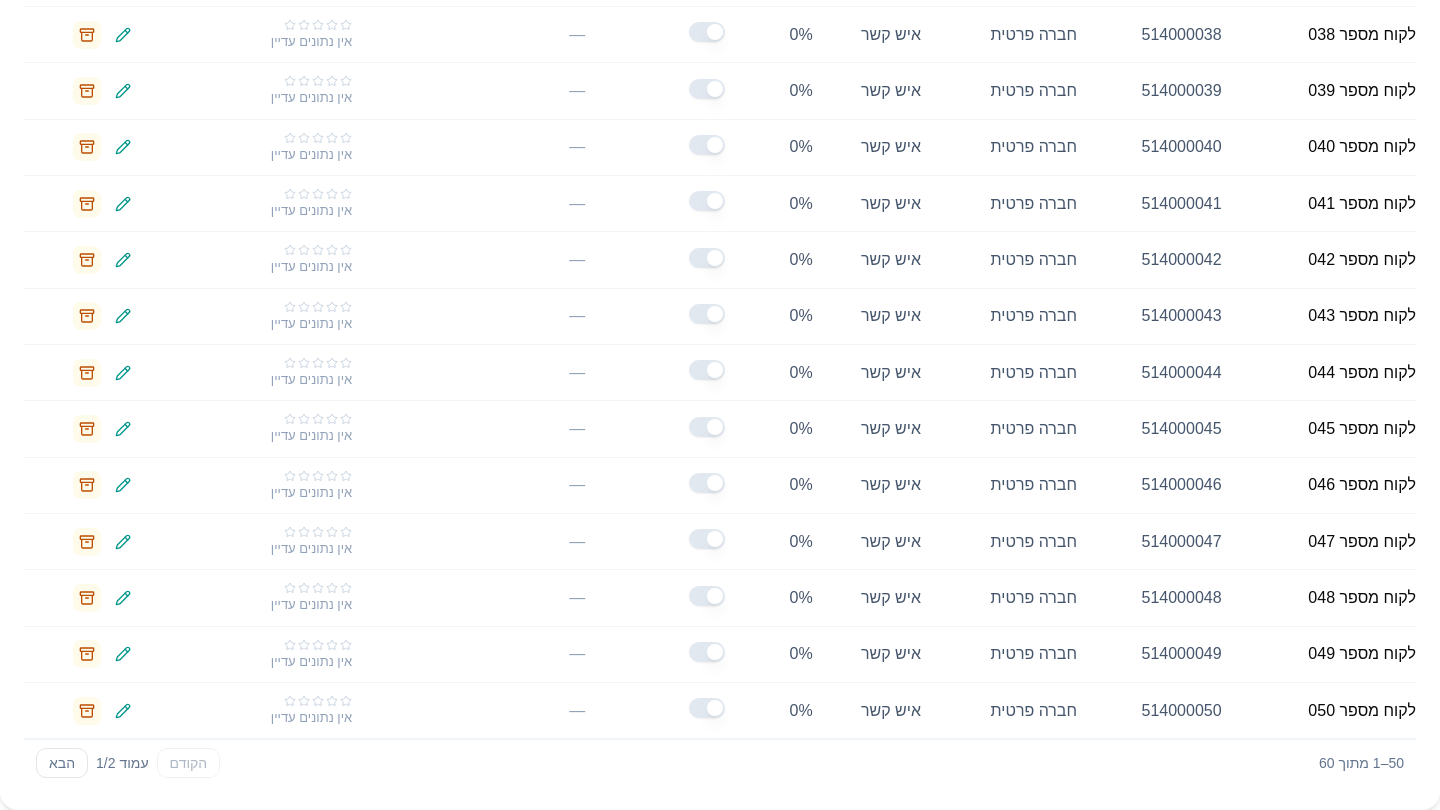
רשימת-הלקוחות — דפדוף (מעבר-האחידות) › מעל 50 שורות מציג עמוד ראשון (50) עם כפתורי-דפדוף, ומעבר-עמוד מציג את השאר
(page scrolled)
expect the element with test id "list-pager" is shown: met, box [24,739,1416,786]
expect the element with test id "list-pager-range" shows "1–50": met, box [1319,753,1404,773]
Click the button with test id "list-pager-next" at (62, 763), box [36,748,88,778]
(page scrolled)
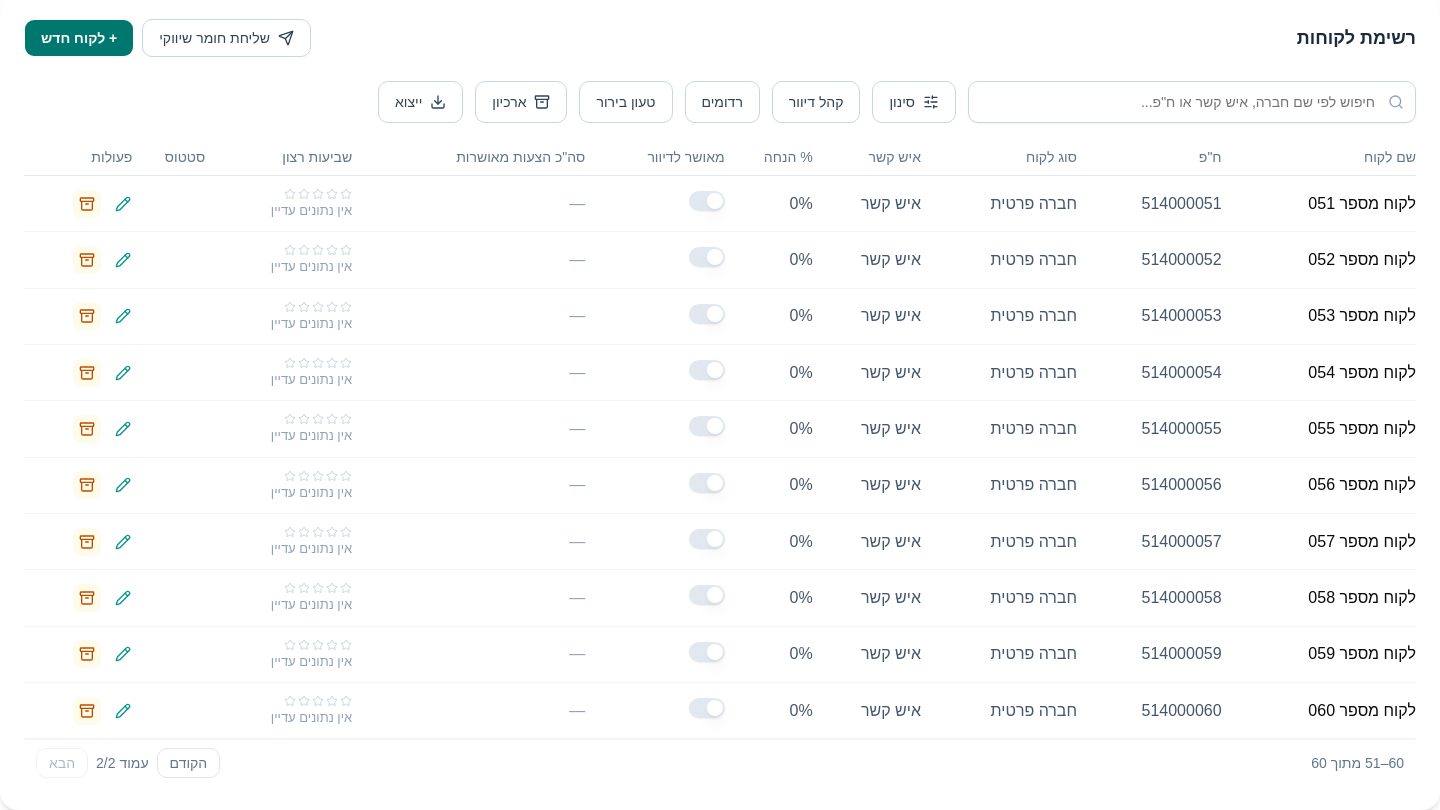
expect the text "לקוח מספר 051" is shown: met, box [1222,176,1416,232]
expect the element with test id "list-pager-range" shows "51–60": met, box [1311,753,1404,773]
